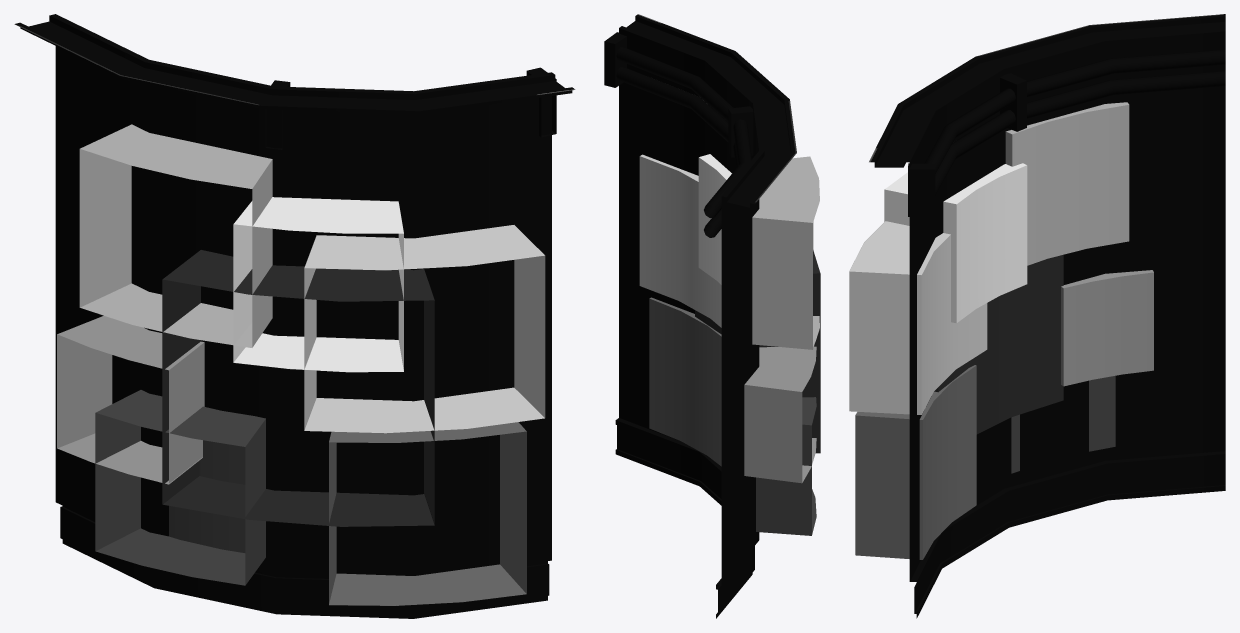
Rendered from InwardPipedWall90D.fbx.
3 views of the same model, side by side, from view 1: azimuth 30°, elevation 25°; view 2: azimuth 150°, elevation 25°; view 3: azimuth 270°, elevation 25° (orthographic). The views are drawn at different scales.
Visible parts, largest first — view 1: FlatWallPipesFullCorner2; view 2: FlatWallPipesFullCorner2; view 3: FlatWallPipesFullCorner2.
Part boxes in pixels (<box>): FlatWallPipesFullCorner2: <box>14,14,575,618</box>; FlatWallPipesFullCorner2: <box>604,14,820,618</box>; FlatWallPipesFullCorner2: <box>849,14,1225,618</box>.
Size of the model in its own units: 282 by 392 by 293.
